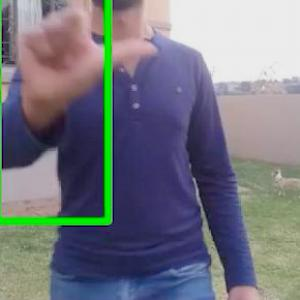land_hand: (14, 0, 162, 108)
